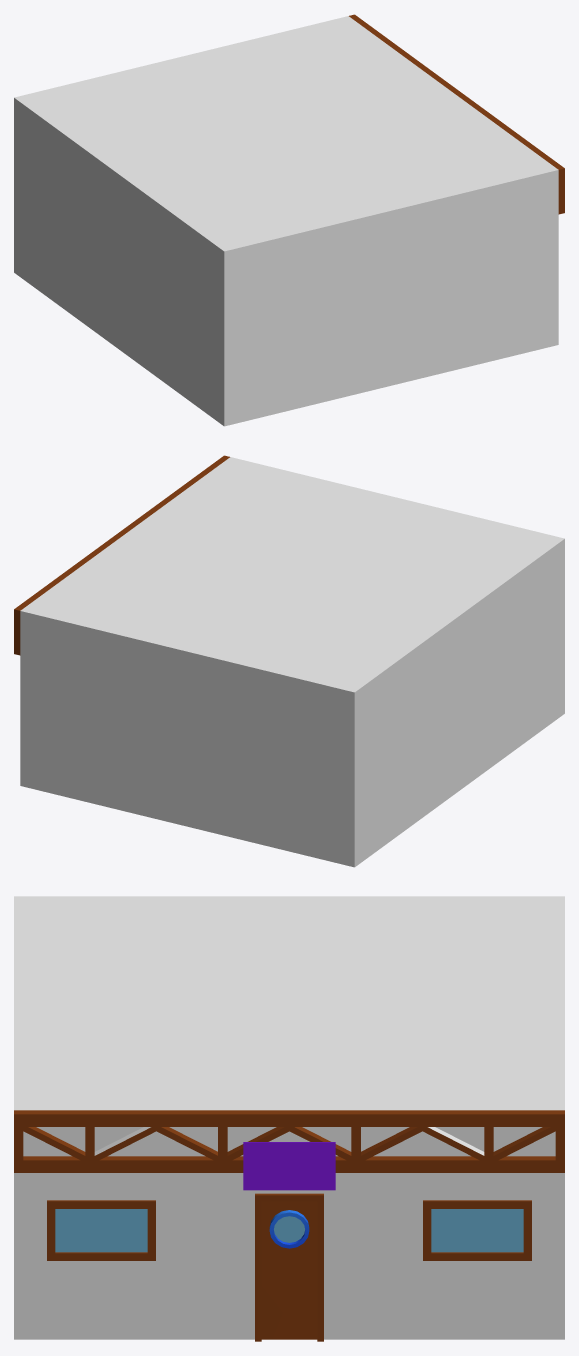
Rendered from pub.glb.
3 renders of one model, top to bottom at view 1: azimuth 30°, elevation 25°; view 2: azimuth 150°, elevation 25°; view 3: azimuth 270°, elevation 25°, orthographic. The views are drawn at different scales.
Visible parts, largest first — view 1: Pub; view 2: Pub; view 3: Pub.
Boxes of the visible parts, x1,y1,x2,y2 form: Pub: (14, 14, 564, 426); Pub: (14, 455, 564, 867); Pub: (14, 896, 564, 1341).
Bounding box in the file's own units: 8.21 × 4 × 8.71.
Materials: 4 (4 with a texture image).
